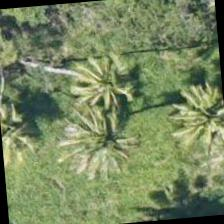Kelapa_Sawit: (48, 94, 146, 192), (42, 39, 140, 137), (154, 67, 223, 164), (0, 83, 55, 178)
